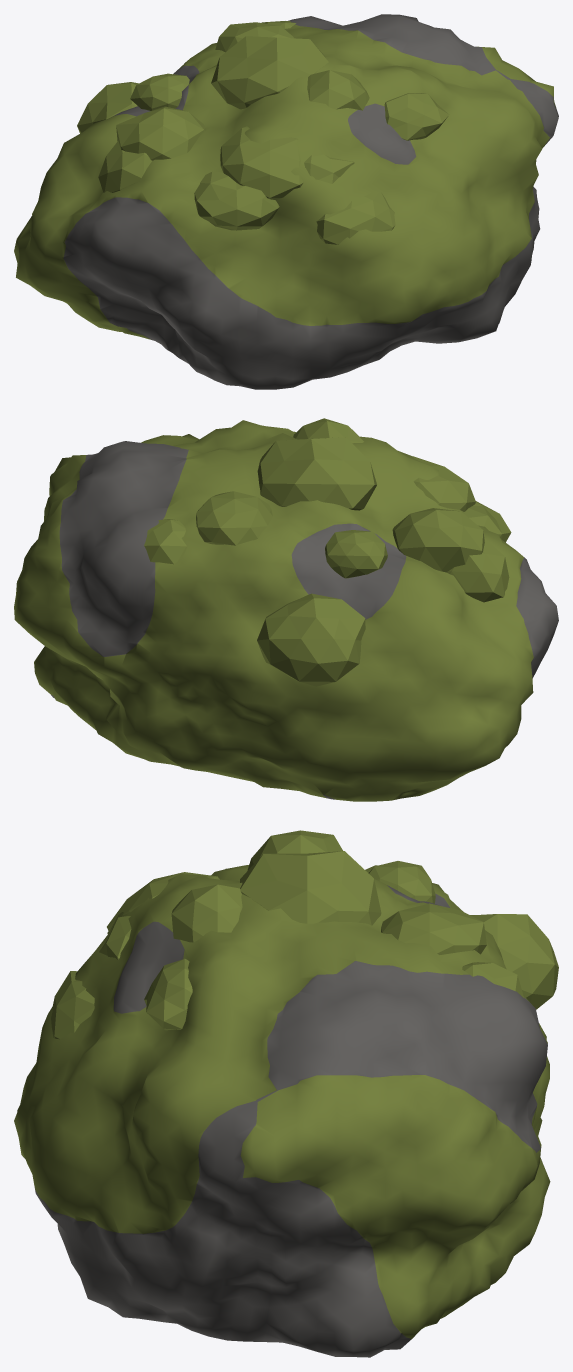
File: pitchblende_deep.glb
3 renders of one model, top to bottom at view 1: azimuth 30°, elevation 25°; view 2: azimuth 150°, elevation 25°; view 3: azimuth 270°, elevation 25°, orthographic. The views are drawn at different scales.
Parts seen in each view (by area): view 1: pitchblende_deep; view 2: pitchblende_deep; view 3: pitchblende_deep.
Part boxes in pixels (left/top/right/bottom): pitchblende_deep: left=14, top=14, right=558, bottom=389; pitchblende_deep: left=14, top=418, right=558, bottom=801; pitchblende_deep: left=14, top=830, right=558, bottom=1357.
Size of the model in its own units: 1.72 by 0.9358 by 1.28.
